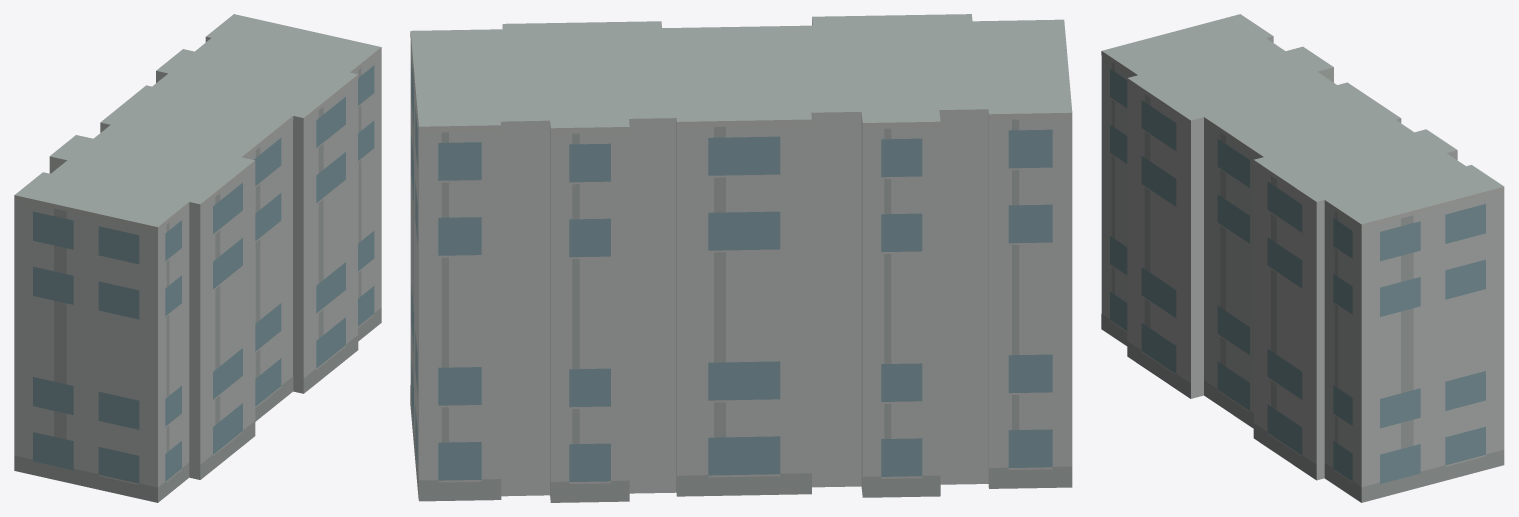
File: residential-cdd9315d-81d1-44f5-8904-bc2d527a7e41.glb
The picture shows the model from 3 angles, left to right: view 1: azimuth 30°, elevation 25°; view 2: azimuth 150°, elevation 25°; view 3: azimuth 270°, elevation 25°; orthographic projection. The views are drawn at different scales.
Visible parts, largest first — view 1: residential-cdd9315d-81d1-44f5-8904-bc2d527a7e41.tmp; view 2: residential-cdd9315d-81d1-44f5-8904-bc2d527a7e41.tmp; view 3: residential-cdd9315d-81d1-44f5-8904-bc2d527a7e41.tmp.
Boxes of the visible parts, x1,y1,x2,y2 form: residential-cdd9315d-81d1-44f5-8904-bc2d527a7e41.tmp: (14,14,381,502); residential-cdd9315d-81d1-44f5-8904-bc2d527a7e41.tmp: (410,14,1072,502); residential-cdd9315d-81d1-44f5-8904-bc2d527a7e41.tmp: (1101,14,1504,502).
Size of the model in its own units: 24.73 by 15.25 by 20.
